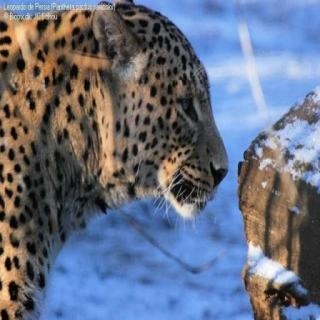Leopard: (0, 0, 227, 320)
